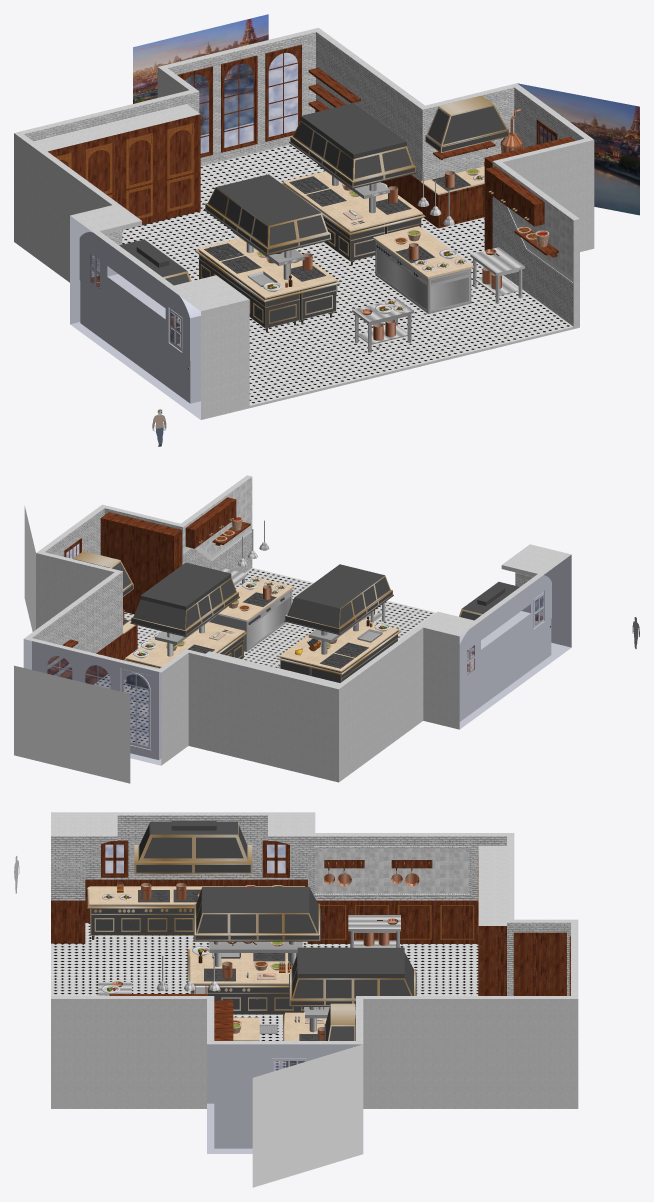
3 views of the same model, one above another, from view 1: azimuth 30°, elevation 25°; view 2: azimuth 150°, elevation 25°; view 3: azimuth 270°, elevation 25° (orthographic). The views are drawn at different scales.
Parts seen in each view (by area): view 1: Material3 (×13), Material2 (×6); view 2: Material2 (×5), Material3 (×11); view 3: Material3 (×11), Material2 (×5).
Part boxes in pixels (box(x1,y1,x2,y2)): Material3 (×13): box(24, 32, 583, 431); Material2 (×6): box(14, 14, 639, 446); Material2 (×5): box(24, 475, 571, 782); Material3 (×11): box(14, 477, 571, 783); Material3 (×11): box(51, 815, 570, 1187); Material2 (×5): box(51, 812, 578, 1108).
Bounding box in the file's own units: 1200 × 224 × 1068.
45 materials, 30 textured.
